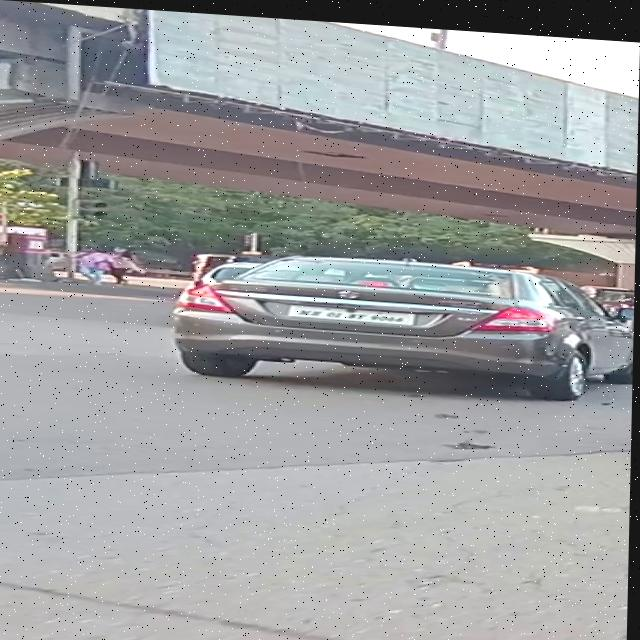plate: (289, 300, 421, 319)
